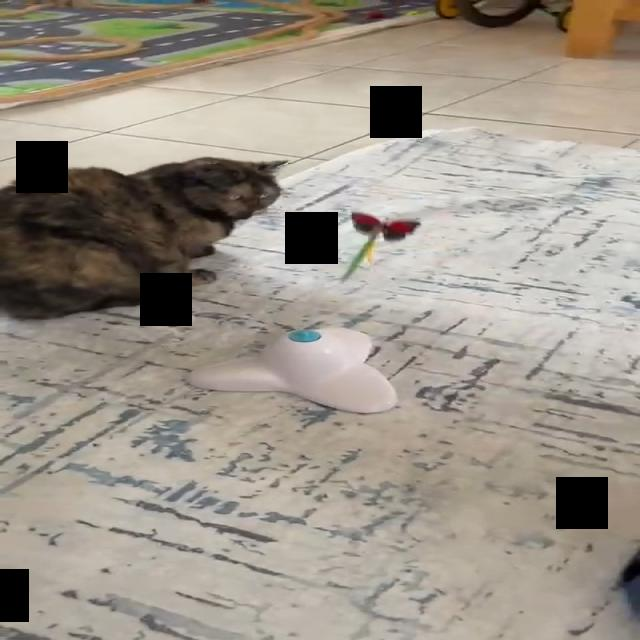authorized: (0, 155, 289, 319)
